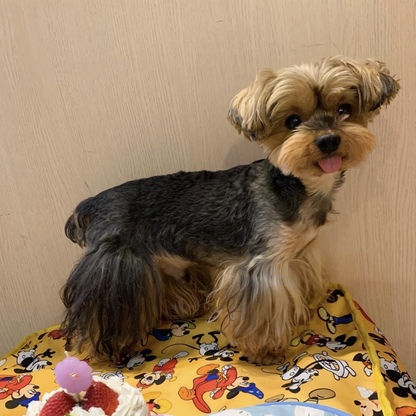yorkshire: (64, 56, 401, 368)
